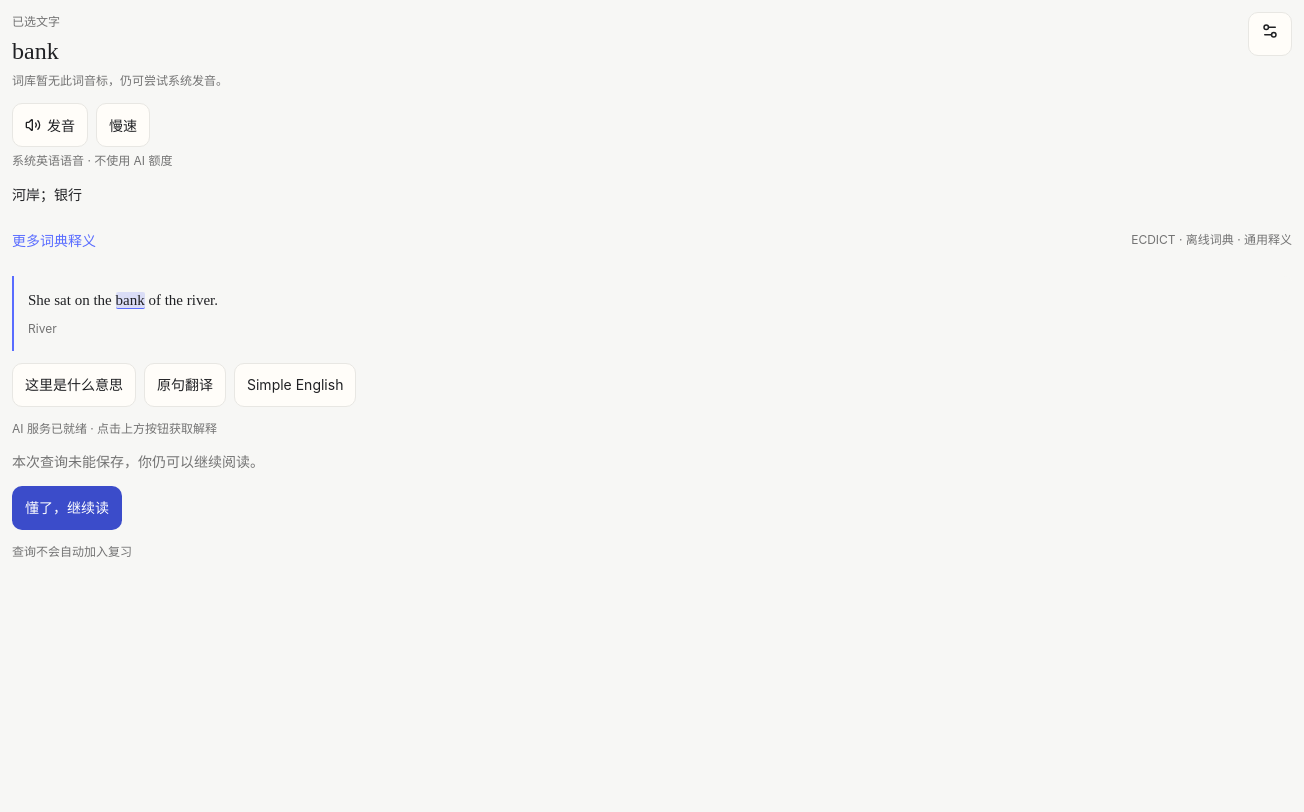
Test: keeps dictionary reading available when storage or AI fails; retries explicitly
The width and height of the screenshot is (1304, 812).
Step 1. Click the button "这里是什么意思" → (74, 385), box 12,363 -> 136,407
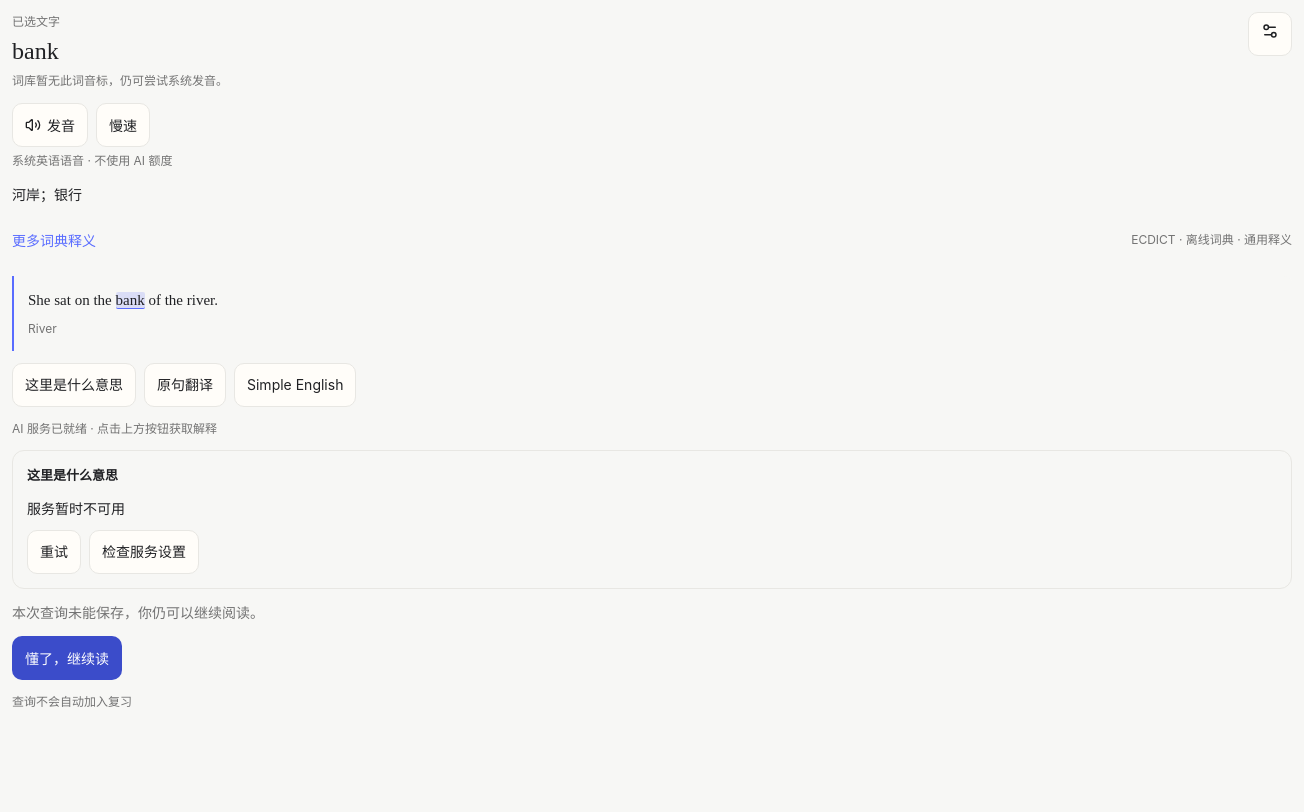
Result: the message "服务暂时不可用" is shown at 27,500 -> 125,517
Result: the button "重试" is shown
Step 2. Click the button "重试" → (54, 552), box 27,530 -> 81,574
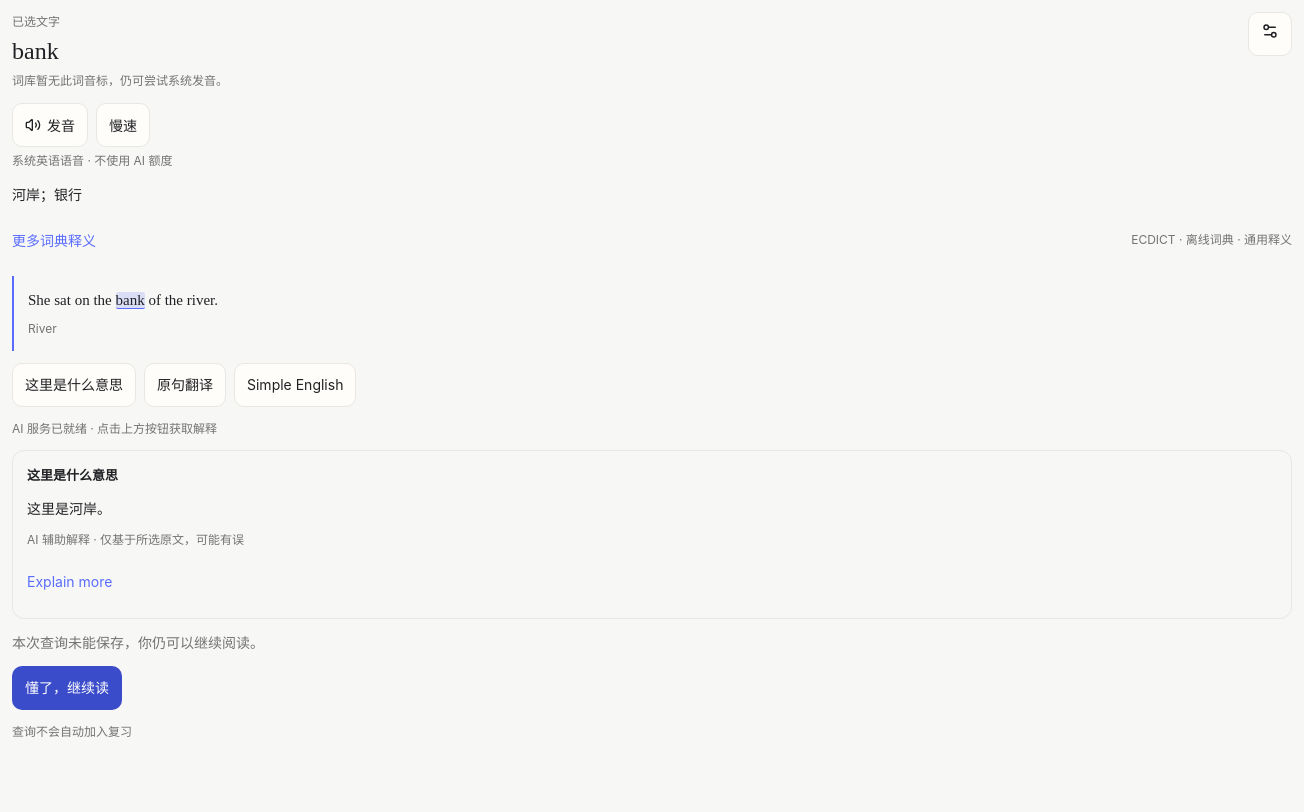
Result: the text "这里是河岸。" is shown at 27,500 -> 111,517
